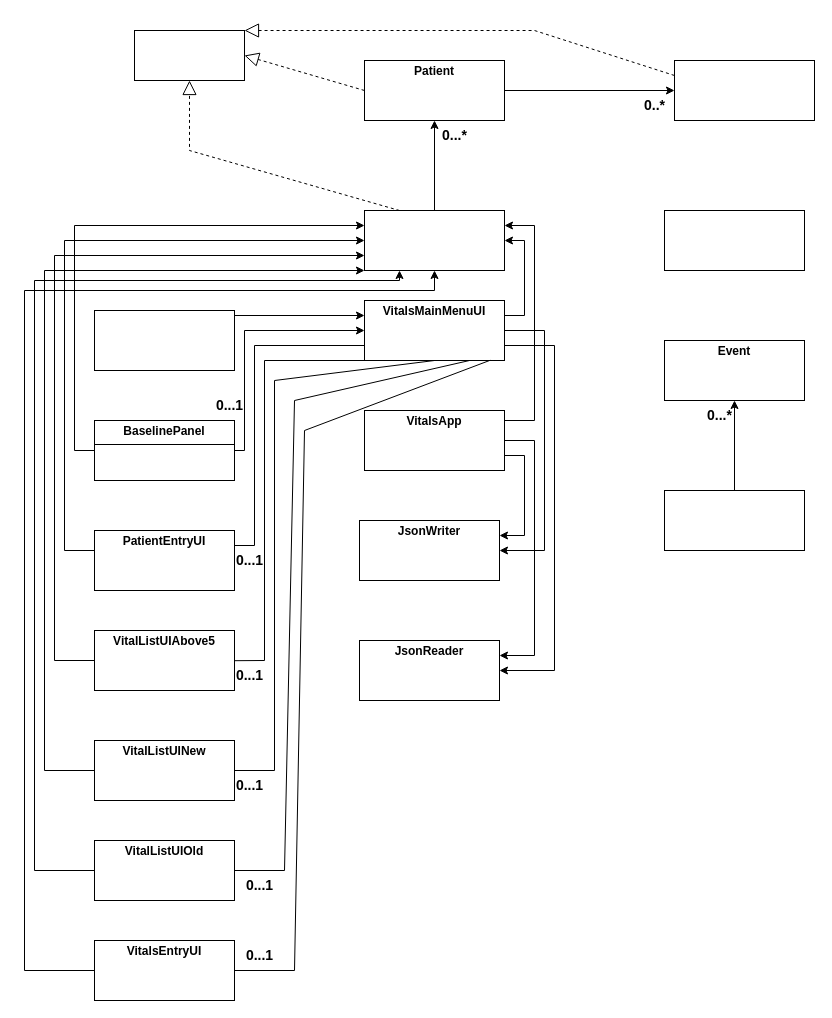
Some shapes in this 832 by 1018 pixel diagram are drawn without their labels. Each missing label, with the centre of its shape:
AlertPanel: pixel 164 340
Chart: pixel 434 240
EventLog: pixel 734 520
Main: pixel 734 240
Vitals: pixel 744 90
«interface» Writable: pixel 189 55
